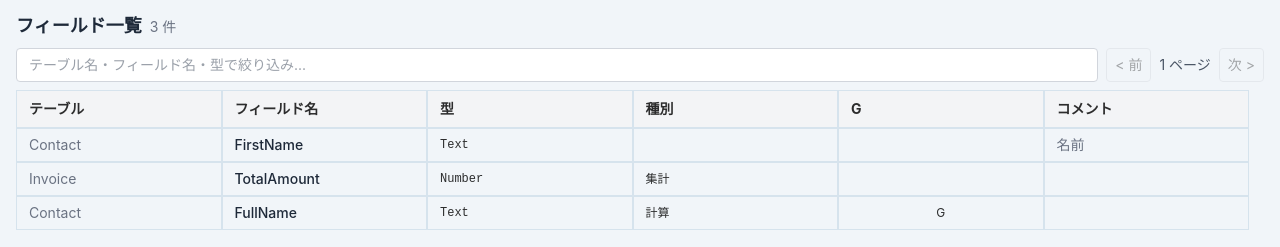
Test: AllFieldsPanel › shows_empty_state_when_filter_matches_nothing
This screenshot has width=1280, height=247.
Type "ZZZNOMATCH" into the field with placeholder "テーブル名・フィールド名・型で絞り込み..." at {"x": 557, "y": 65}, box [16,48,1098,82]
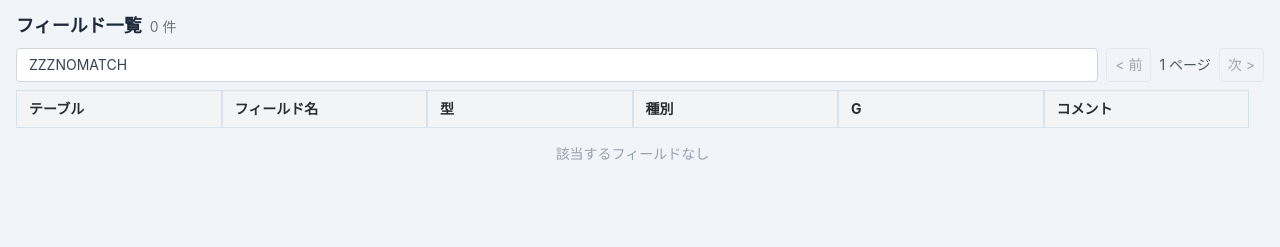
expect the text "該当するフィールドなし" is shown: met, box [556,145,709,162]
